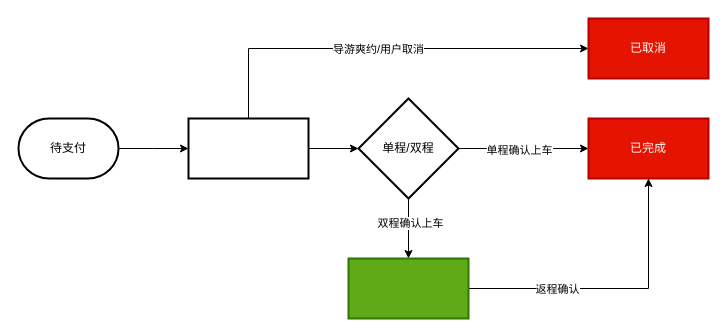
Image size: 726x336. Some labels were removed from this diagram. The box of each missing label's shape, as (x1, y1, x2, y2) in pixels:
待出行 （待使用）: (187, 117, 309, 179)
待返程 （新增状态）: (347, 257, 469, 319)
